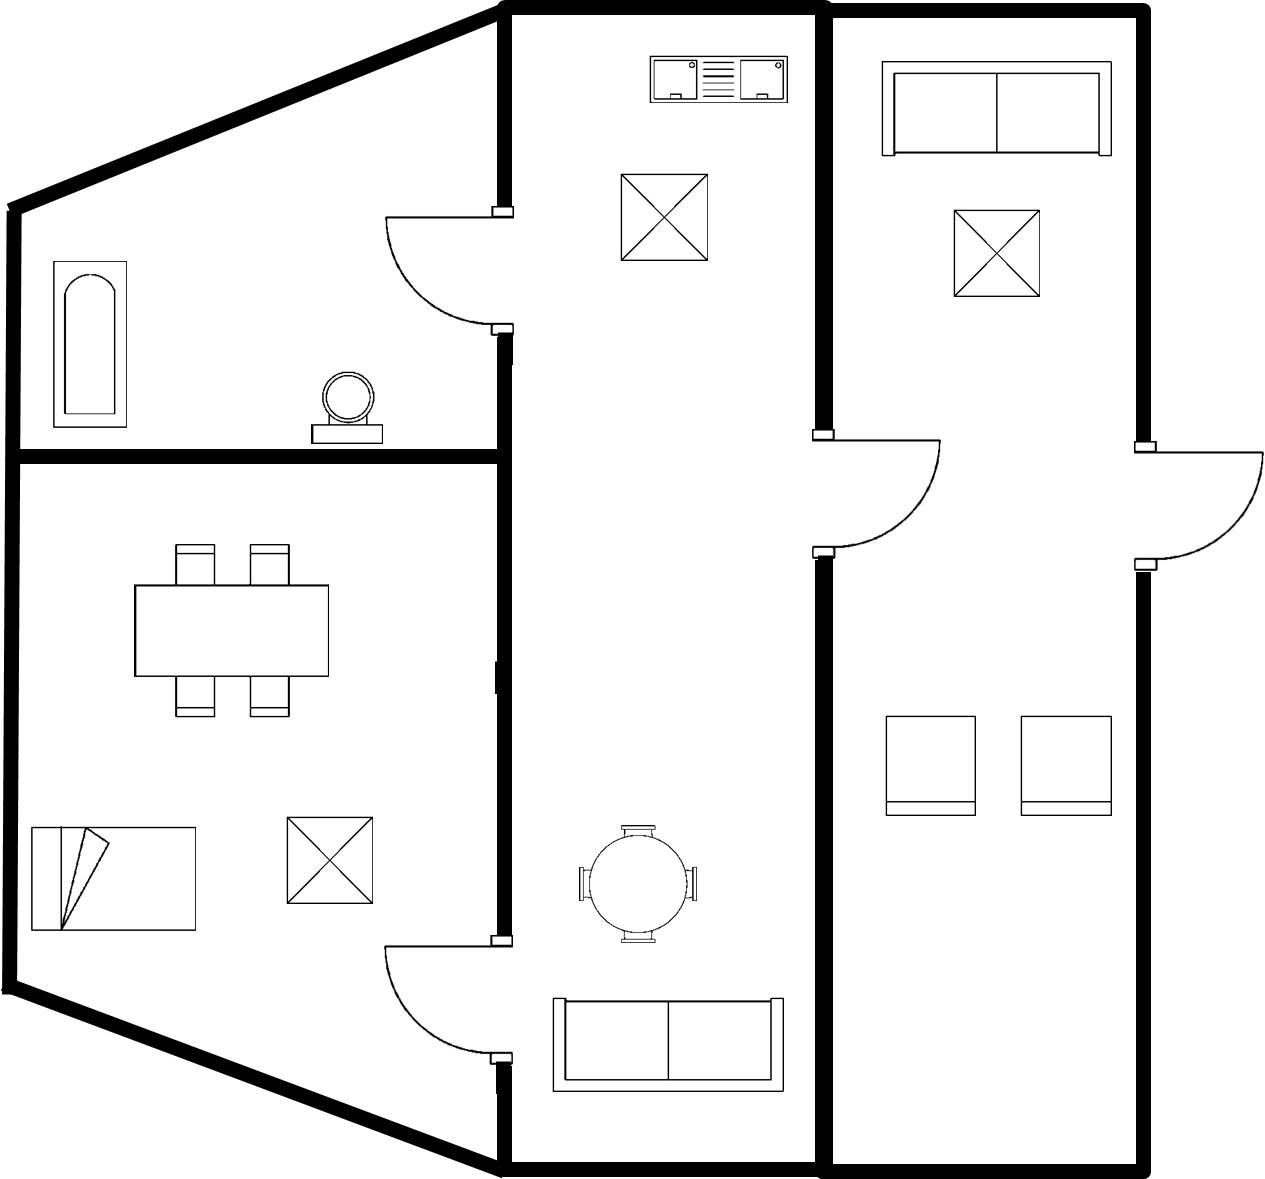bed: (26, 819, 209, 943)
coffee_table: (277, 805, 384, 913), (612, 165, 717, 271), (944, 201, 1049, 305)
dining_table: (122, 533, 344, 729)
large_sink: (302, 367, 394, 451)
large_sofa: (869, 51, 1120, 172), (543, 989, 791, 1103)
round_table: (571, 814, 703, 952)
small_sofa: (1011, 707, 1121, 824), (876, 709, 983, 827)
tub: (43, 252, 134, 436)
twin_sink: (643, 48, 794, 112)
